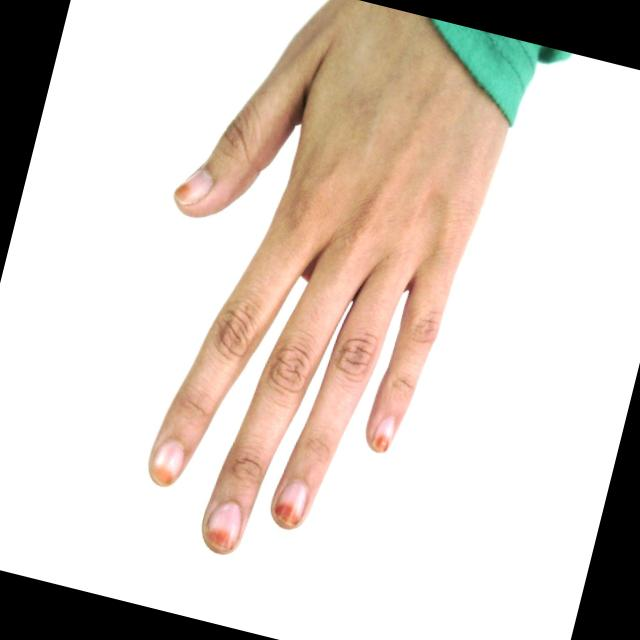Nail: (205, 501, 242, 552), (151, 440, 185, 487), (274, 481, 306, 527), (173, 169, 212, 205), (372, 416, 394, 453)
